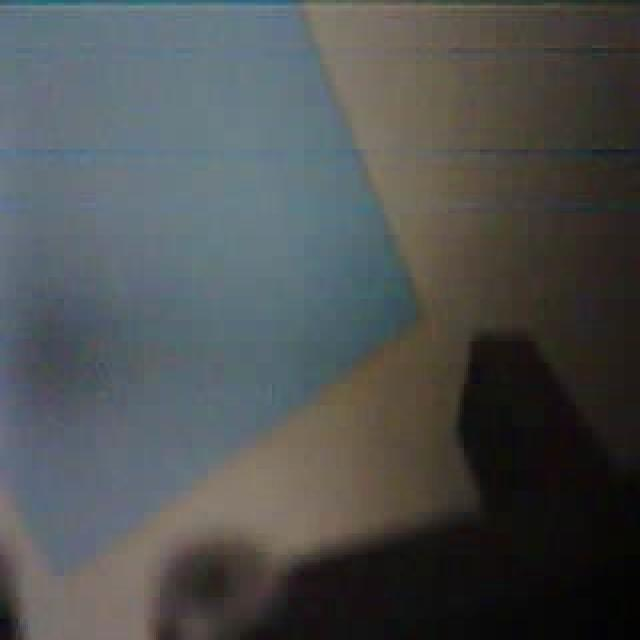blue_box: (5, 7, 418, 582)
